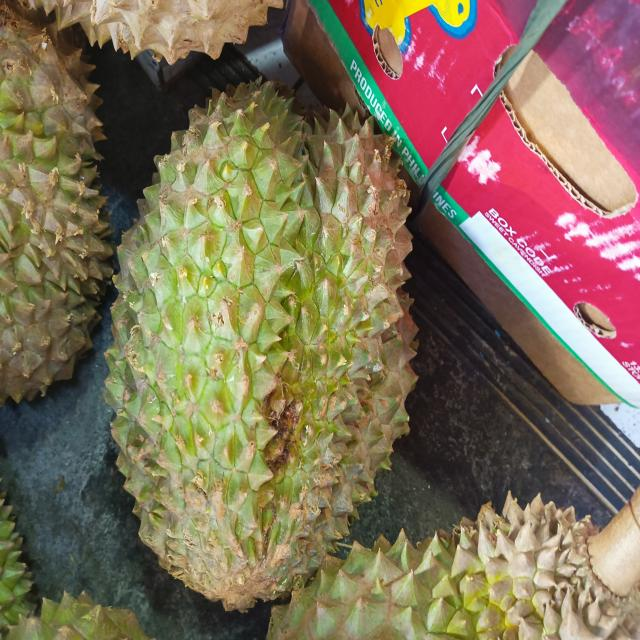mature: (101, 74, 422, 618), (351, 455, 637, 640), (0, 4, 120, 399)
